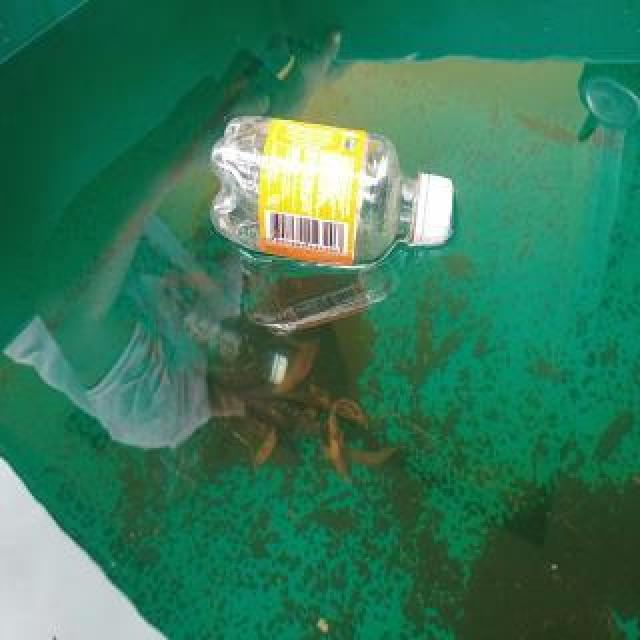bottle: (210, 112, 454, 270)
